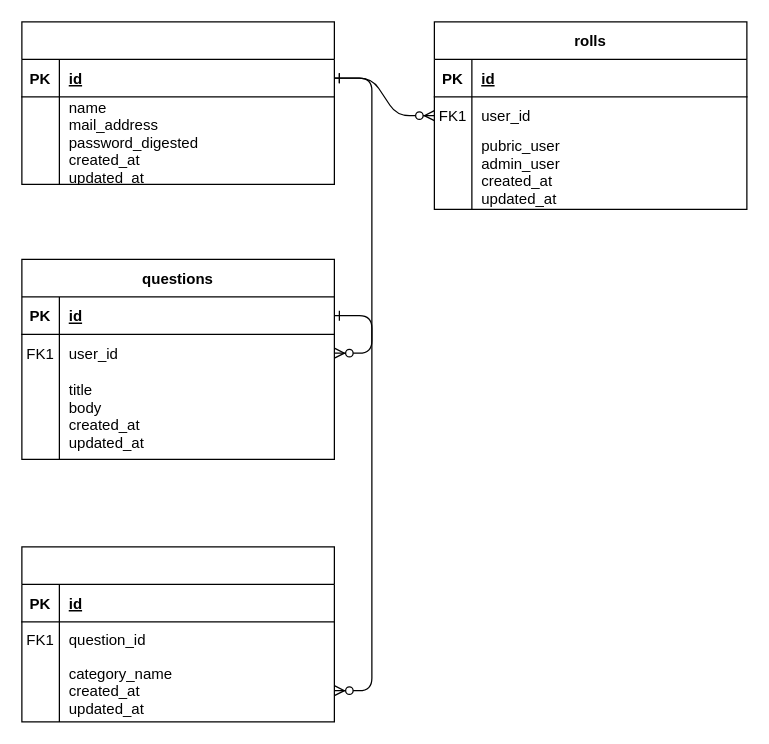
Image size: 769x744. Some labels were removed from this diagram. Each missing label, with the box of its shape:
categories: (21, 546, 334, 722)
users: (21, 21, 334, 184)
